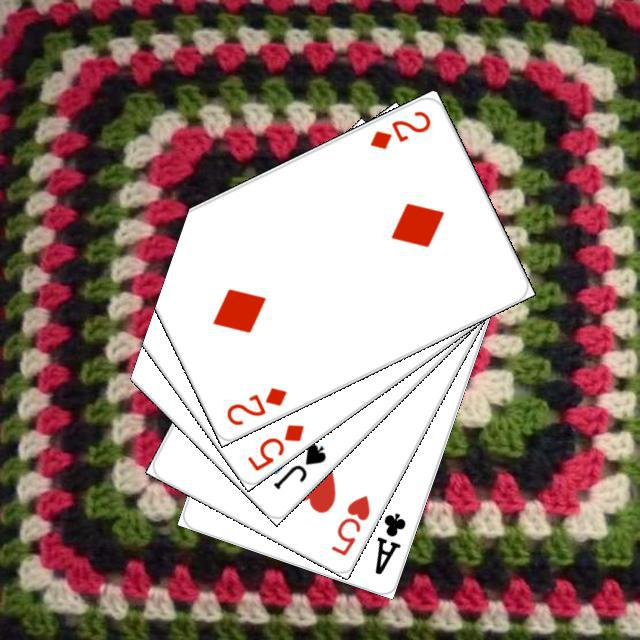2d: (221, 382, 289, 427), (365, 106, 433, 151)
5d: (242, 419, 306, 473)
5h: (326, 489, 372, 558)
Ac: (369, 507, 408, 577)
Js: (268, 438, 328, 491)
